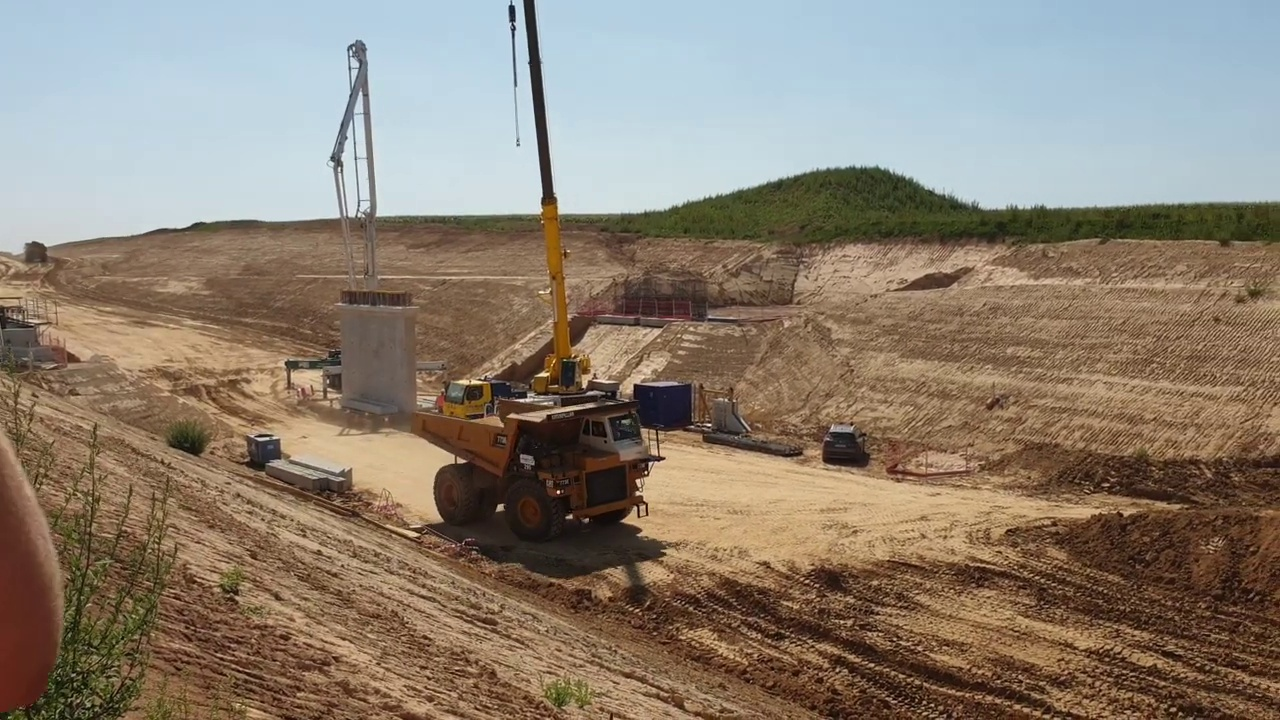crane: (442, 2, 625, 451)
truck: (409, 395, 666, 540)
